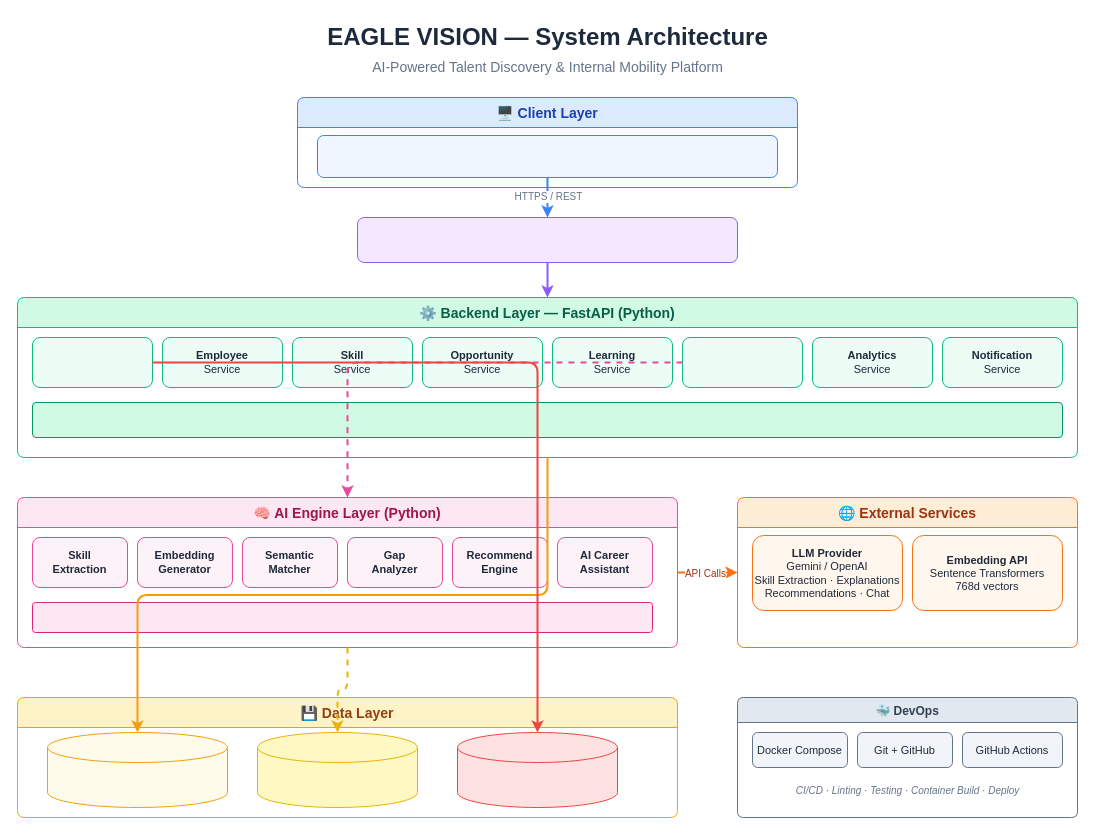
Image size: 1095x835. Some labels were removed from this diagram. Here are the shapes that lost their labels. From the top down, the centre of each, then its label:
the point at 547,156: React + TypeScript Tailwind CSS · React Router · TanStack Query · Axios
the point at 547,239: Nginx Reverse Proxy HTTPS · CORS · Rate Limiting
the point at 92,362: Auth Service JWT + RBAC
the point at 742,362: Matching Service
the point at 547,420: Pydantic Schemas · SQLAlchemy ORM · Alembic Migrations · Repository Pattern
the point at 342,617: 📝 Prompt Templates · System Prompts · Task Prompts
the point at 137,770: PostgreSQL 16 25 Tables · Relational Data Business Logic · Workflows
the point at 337,770: pgvector HNSW Index 768d Embeddings Cosine Similarity
the point at 537,770: Redis 7 JWT Sessions API Cache
